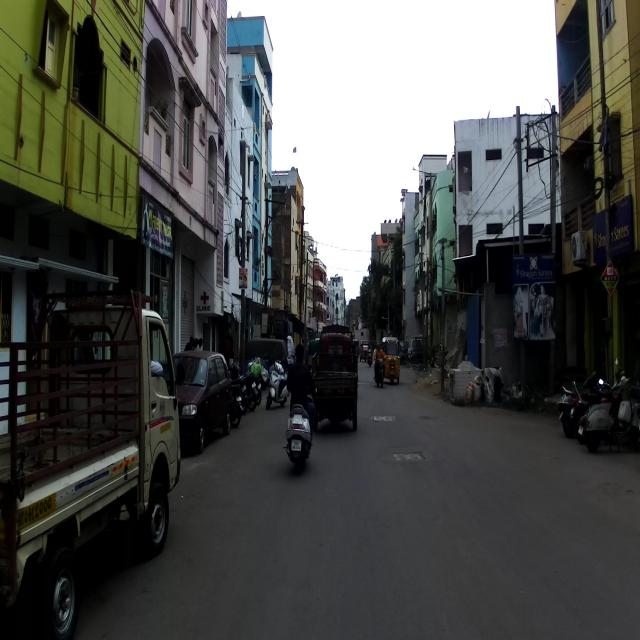Car_Maruti-Suzuki: (172, 349, 233, 456)
autorickshaw: (310, 323, 358, 430)
scooter: (577, 372, 640, 455), (283, 384, 315, 476), (556, 370, 597, 438)
truck: (0, 284, 182, 639)
